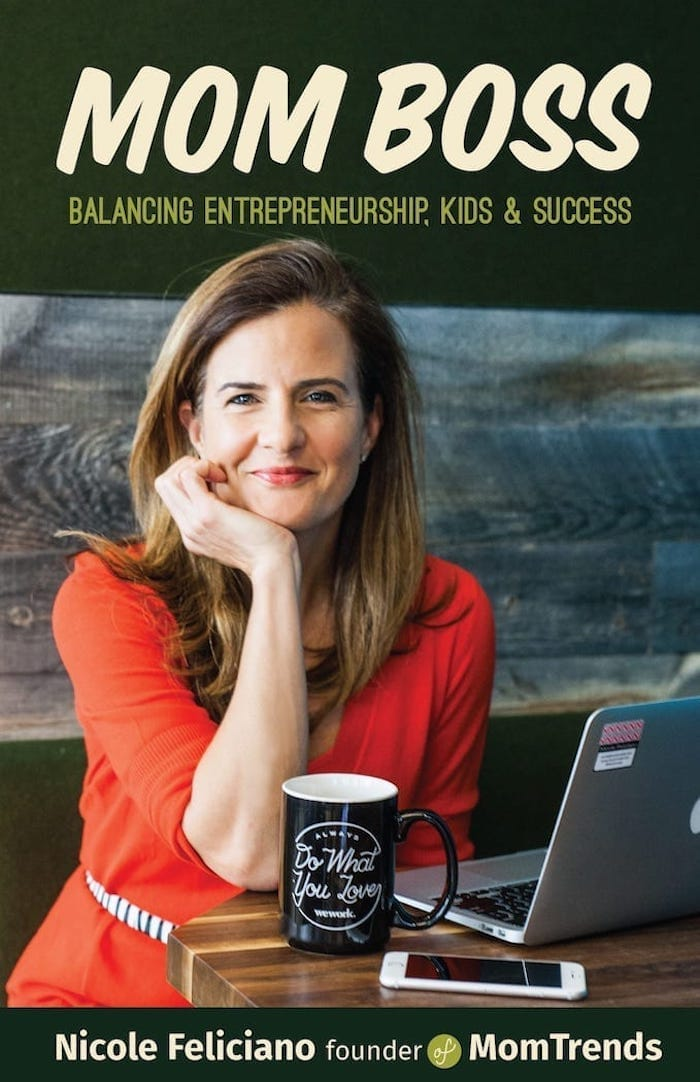wework: (312, 905, 354, 920)
